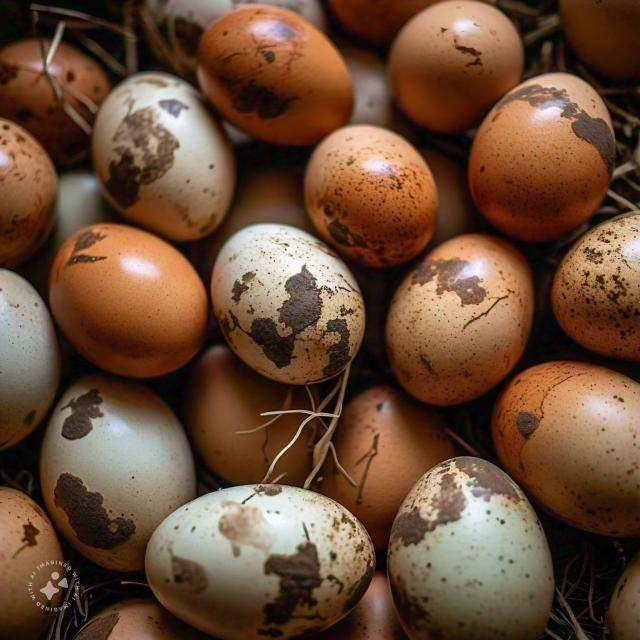Dirt Stained Egg: (144, 484, 375, 637), (392, 441, 559, 640), (372, 238, 544, 414), (46, 213, 218, 388), (38, 376, 188, 574), (212, 226, 376, 398), (496, 345, 640, 539), (89, 78, 240, 257), (463, 69, 615, 241), (192, 3, 354, 152), (379, 0, 541, 132), (307, 126, 439, 256), (547, 204, 640, 354), (0, 113, 59, 267)
